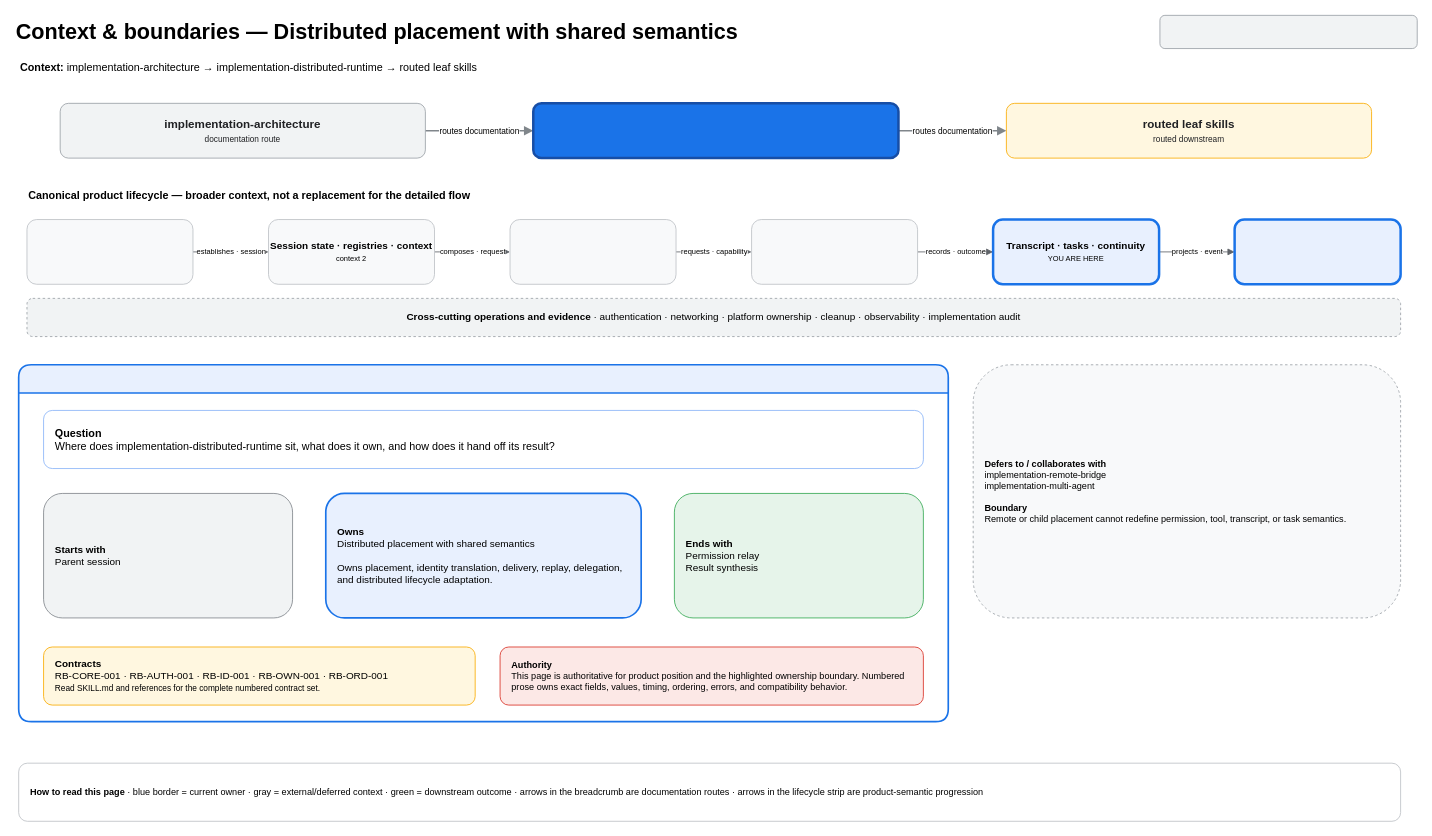
The diagram is 1432 pixels wide and 836 high, and some of its shapes have lost their labels. Each missing label, with the box of its shape:
architecture overview · template 2.0-context-flow: (1159, 15, 1417, 49)
Capability decision · execution context 4: (751, 219, 918, 284)
CURRENT OWNERSHIP BOUNDARY: (17, 364, 949, 722)
Entrypoint · identity · policy context 1: (26, 219, 193, 284)
implementation-distributed-runtime YOU ARE HERE: (532, 102, 899, 159)
Query engine · model stream context 3: (509, 219, 676, 284)
Surface · remote projection YOU ARE HERE: (1233, 218, 1401, 285)
